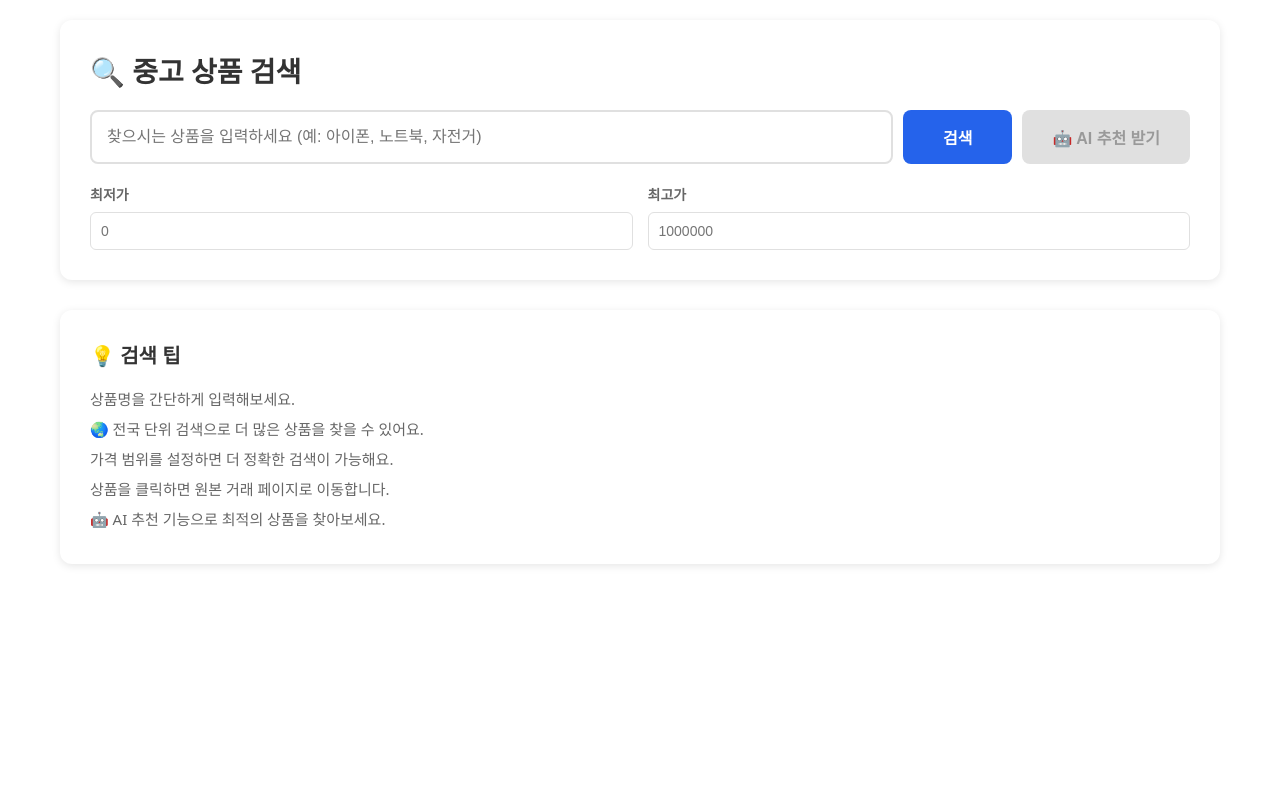
Test: ProductSearch Component › API 에러 시 에러 메시지가 표시되어야 함
The width and height of the screenshot is (1280, 786).
Type "아이폰" into the field with placeholder "찾으시는 상품을 입력하세요 (예: 아이폰, 노트북, 자전거)" at (492, 137), box x1=90 y1=110 x2=893 y2=164
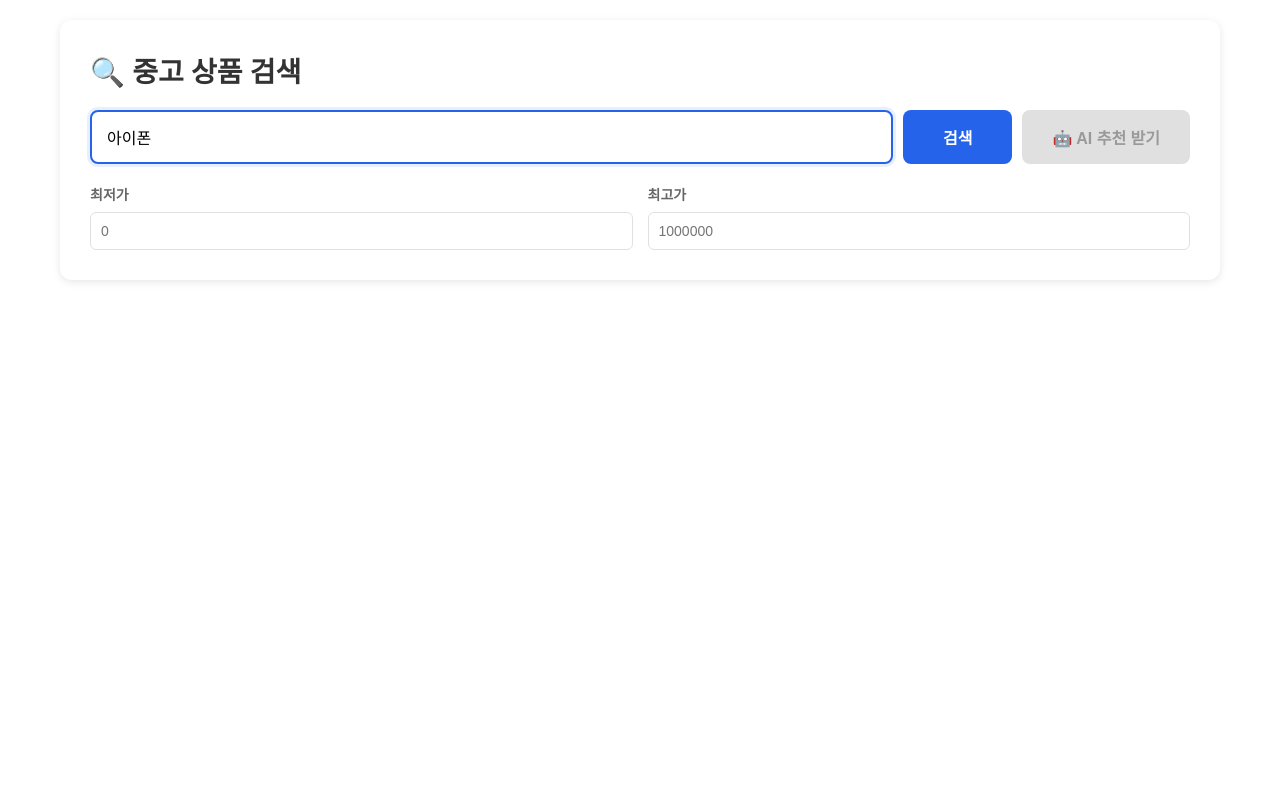
Click the button "검색" at (958, 137), box x1=903 y1=110 x2=1012 y2=164
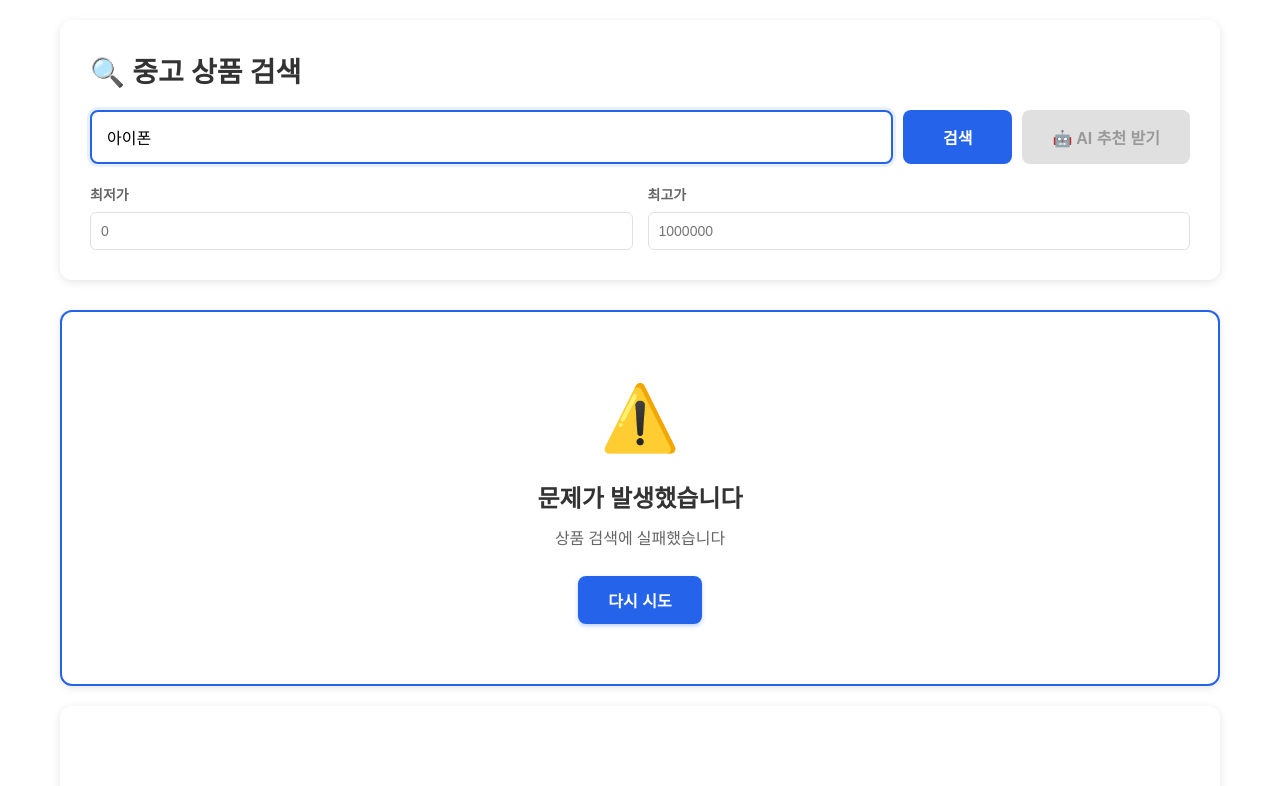
Expected: the text "상품 검색에 실패했습니다" is shown, x1=555 y1=527 x2=725 y2=549
